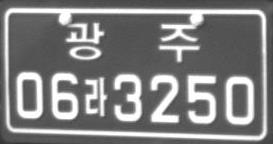0: (223, 75, 256, 126), (15, 71, 43, 120)
2: (149, 73, 180, 124)
3: (113, 72, 144, 122)
5: (186, 73, 217, 124)
6: (50, 71, 79, 120)
광주_D: (64, 20, 199, 62)
라: (83, 77, 107, 117)
